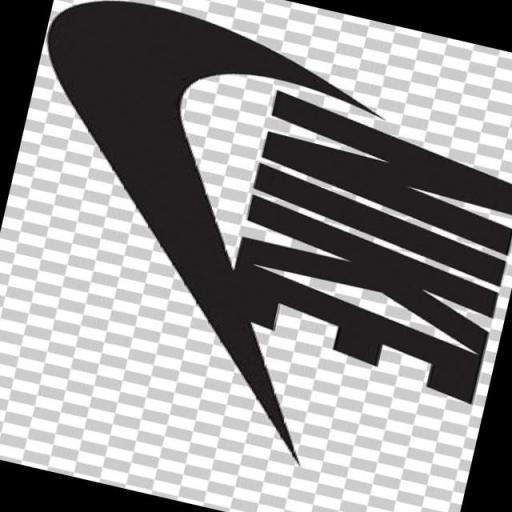Nike: (0, 0, 326, 373), (210, 89, 512, 411)
